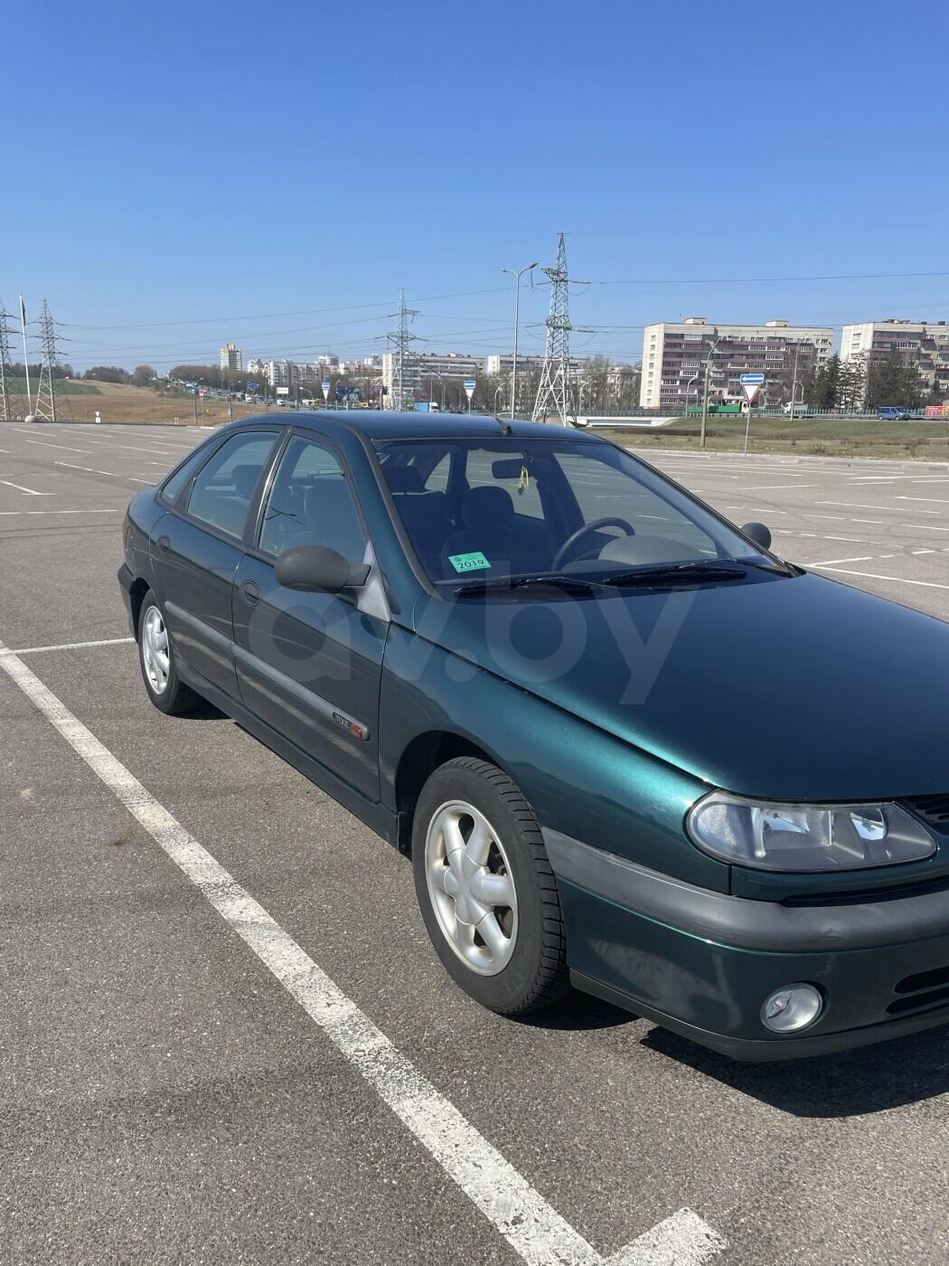Laguna_1998-2001: (119, 402, 949, 1085)
